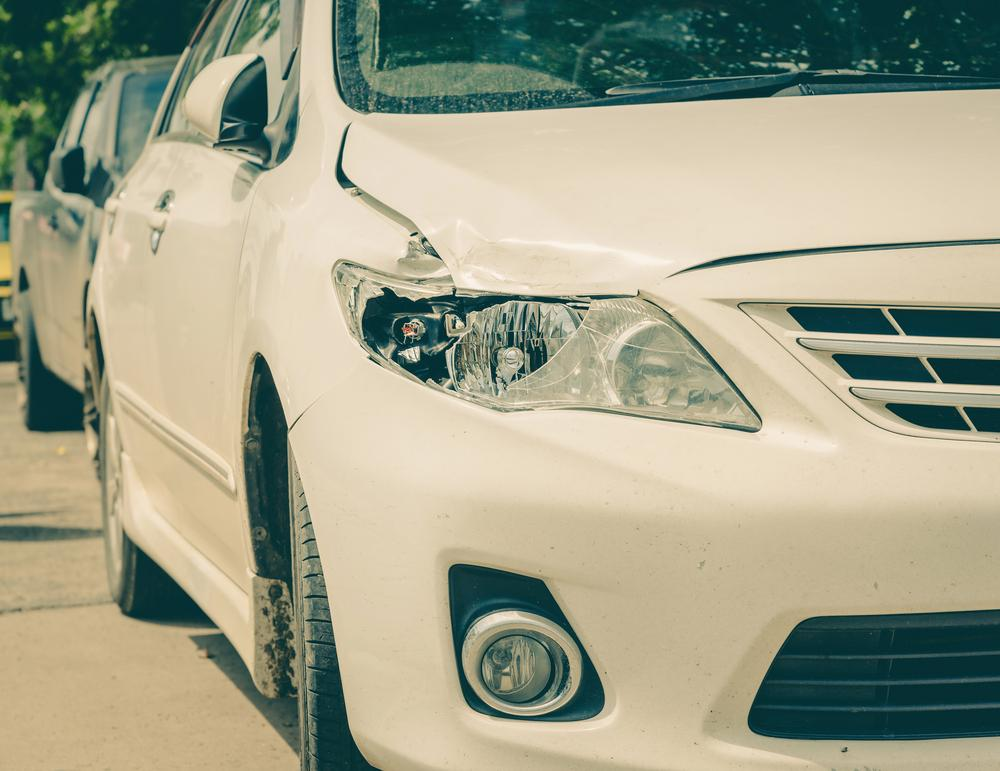dent: (431, 223, 644, 295), (397, 238, 449, 283)
lamp broken: (334, 260, 762, 427)
